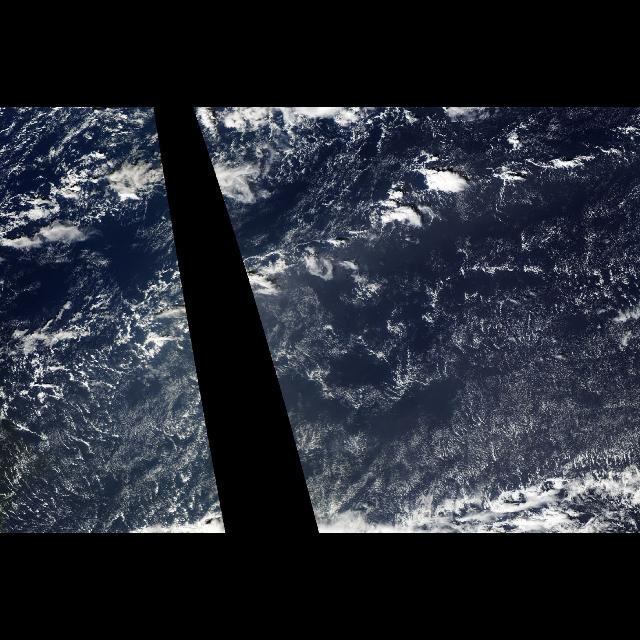Sugar: (286, 299, 636, 475), (110, 342, 218, 484)
